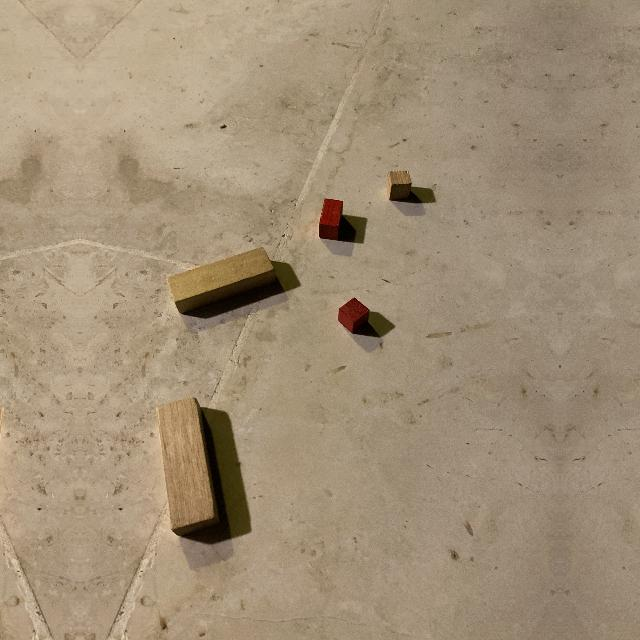cube: (386, 170, 412, 201)
jenga: (155, 396, 220, 536), (166, 247, 276, 314)
red block: (319, 198, 343, 240)
red cube: (338, 297, 370, 333)
